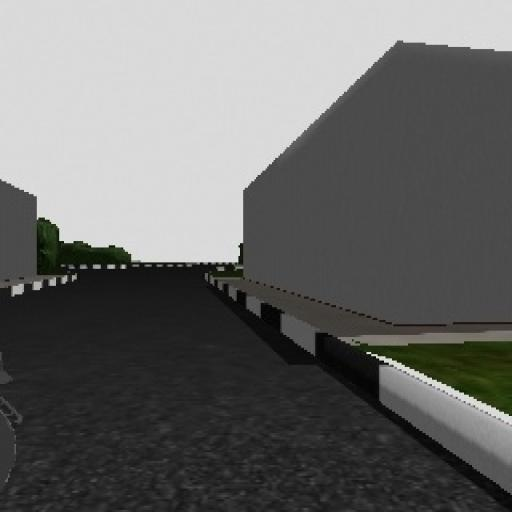huskya200: (0, 337, 26, 506)
